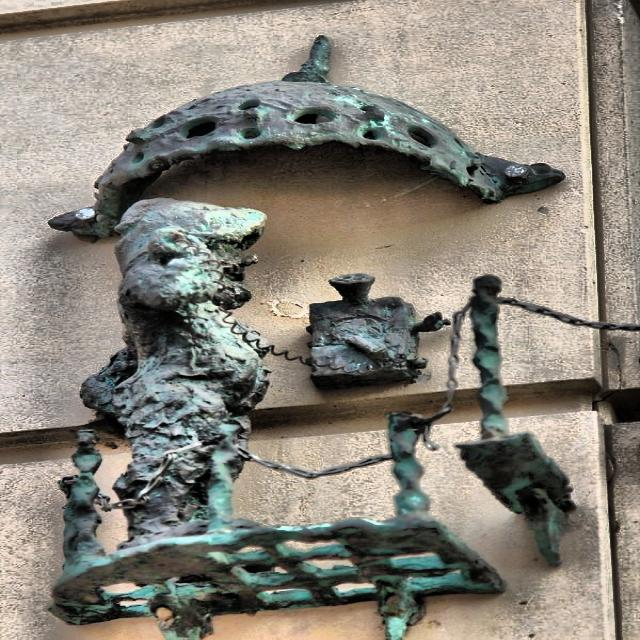Dryndek: (49, 38, 636, 640)
